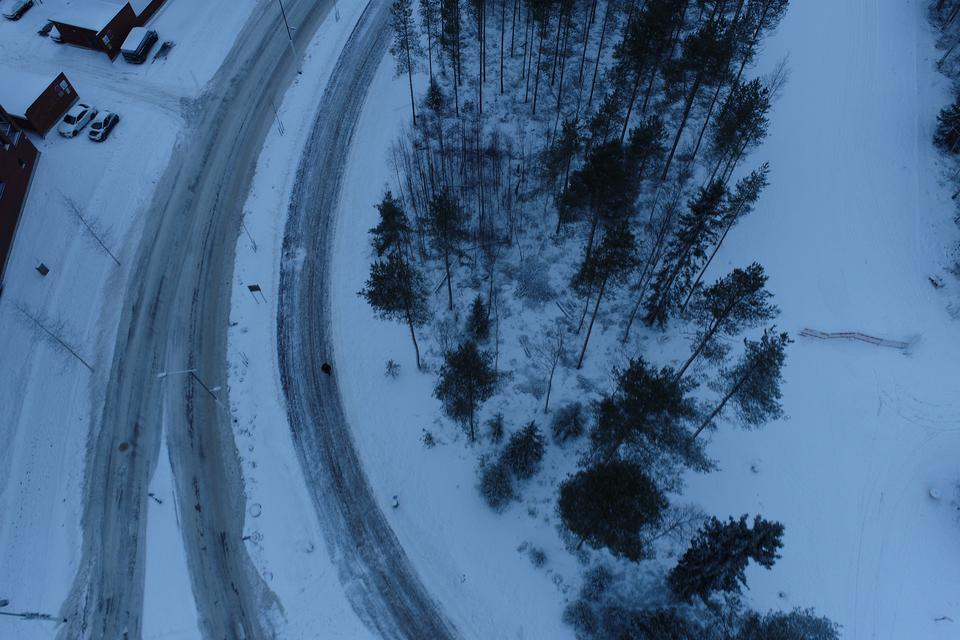intersection: (148, 77, 386, 175)
